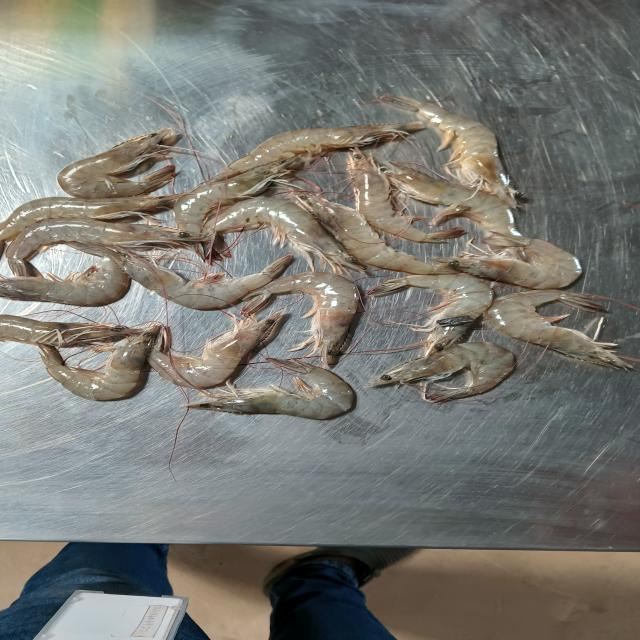shrimp: (379, 95, 516, 208), (204, 121, 425, 184), (297, 194, 458, 275), (379, 161, 529, 246), (204, 196, 365, 272), (483, 290, 633, 369), (174, 155, 317, 235), (4, 219, 201, 276), (348, 149, 465, 244), (241, 271, 359, 365), (0, 195, 179, 255), (148, 311, 283, 389), (367, 274, 494, 356), (186, 359, 354, 420), (122, 251, 292, 310), (38, 325, 162, 401), (367, 341, 516, 402), (58, 128, 182, 199), (0, 242, 131, 306), (438, 239, 582, 289), (0, 315, 144, 348)
